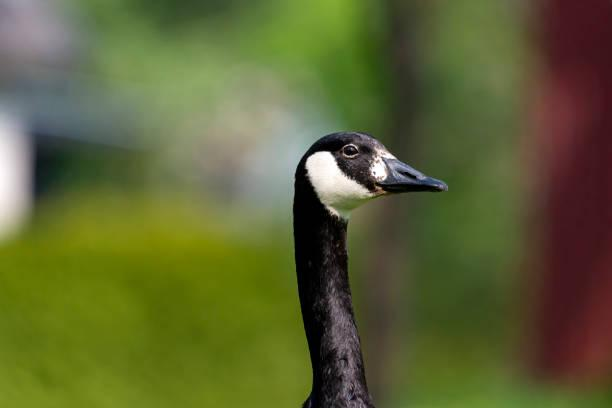Canadian-Goose: (276, 124, 454, 408)
